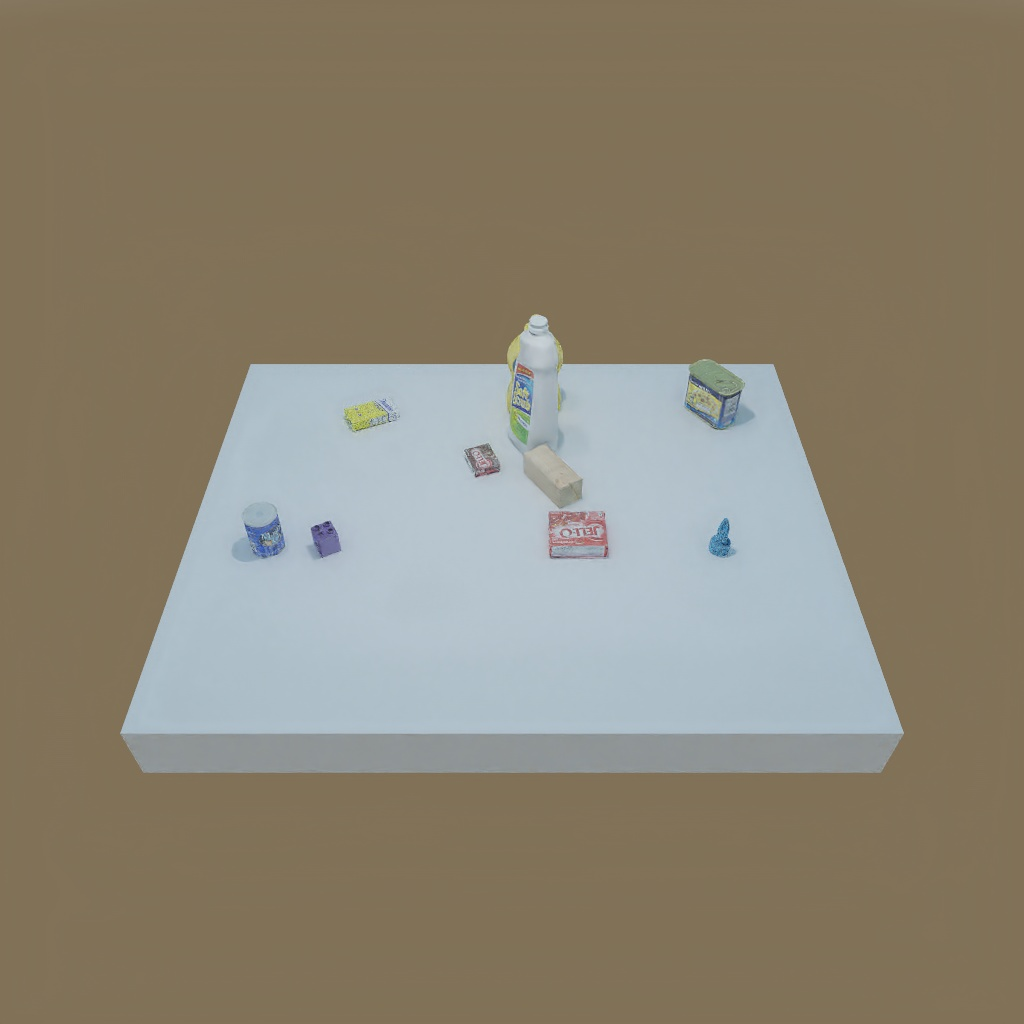gelatin_box: (545, 507, 612, 561)
master_chef_can: (237, 504, 284, 557)
potted_meat_can: (686, 360, 740, 430)
pudding_box: (462, 442, 500, 477)
wood_block: (520, 444, 580, 511)
